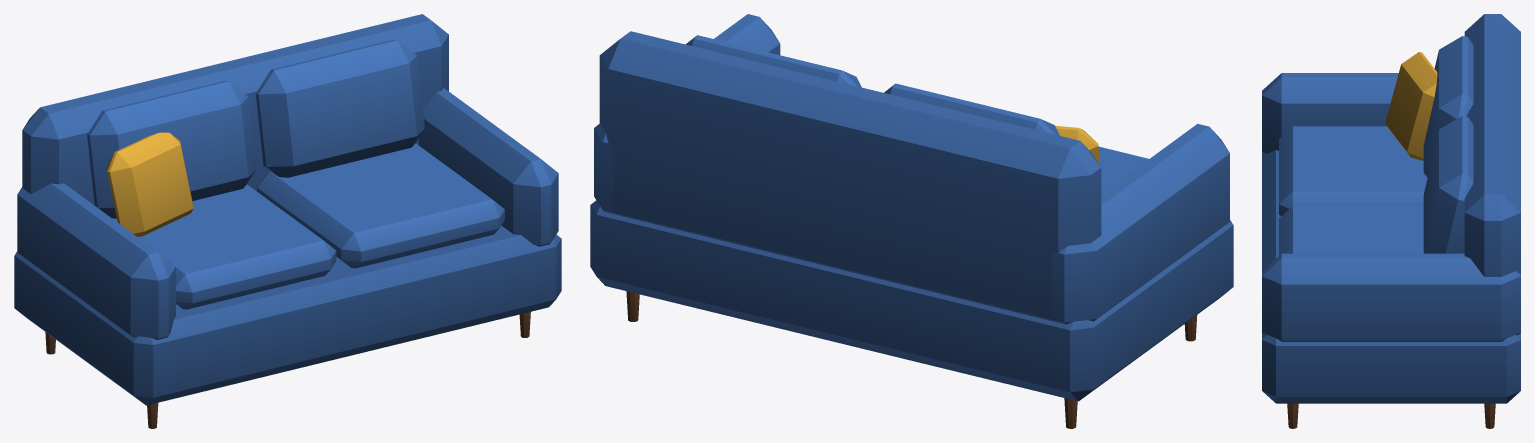
The model's file is sofa_02.glb.
3 renders of one model, left to right at view 1: azimuth 30°, elevation 25°; view 2: azimuth 150°, elevation 25°; view 3: azimuth 270°, elevation 25°, orthographic. The views are drawn at different scales.
Parts seen in each view (by area): view 1: sofa_02_LOD0; view 2: sofa_02_LOD0; view 3: sofa_02_LOD0.
Part boxes in pixels (bbox=[...]): sofa_02_LOD0: bbox=[14, 14, 561, 428]; sofa_02_LOD0: bbox=[590, 14, 1233, 428]; sofa_02_LOD0: bbox=[1262, 14, 1520, 428].
Size of what is drawn, in the model's own units: 1.7 by 0.92 by 0.92.
1 material, 1 textured.
